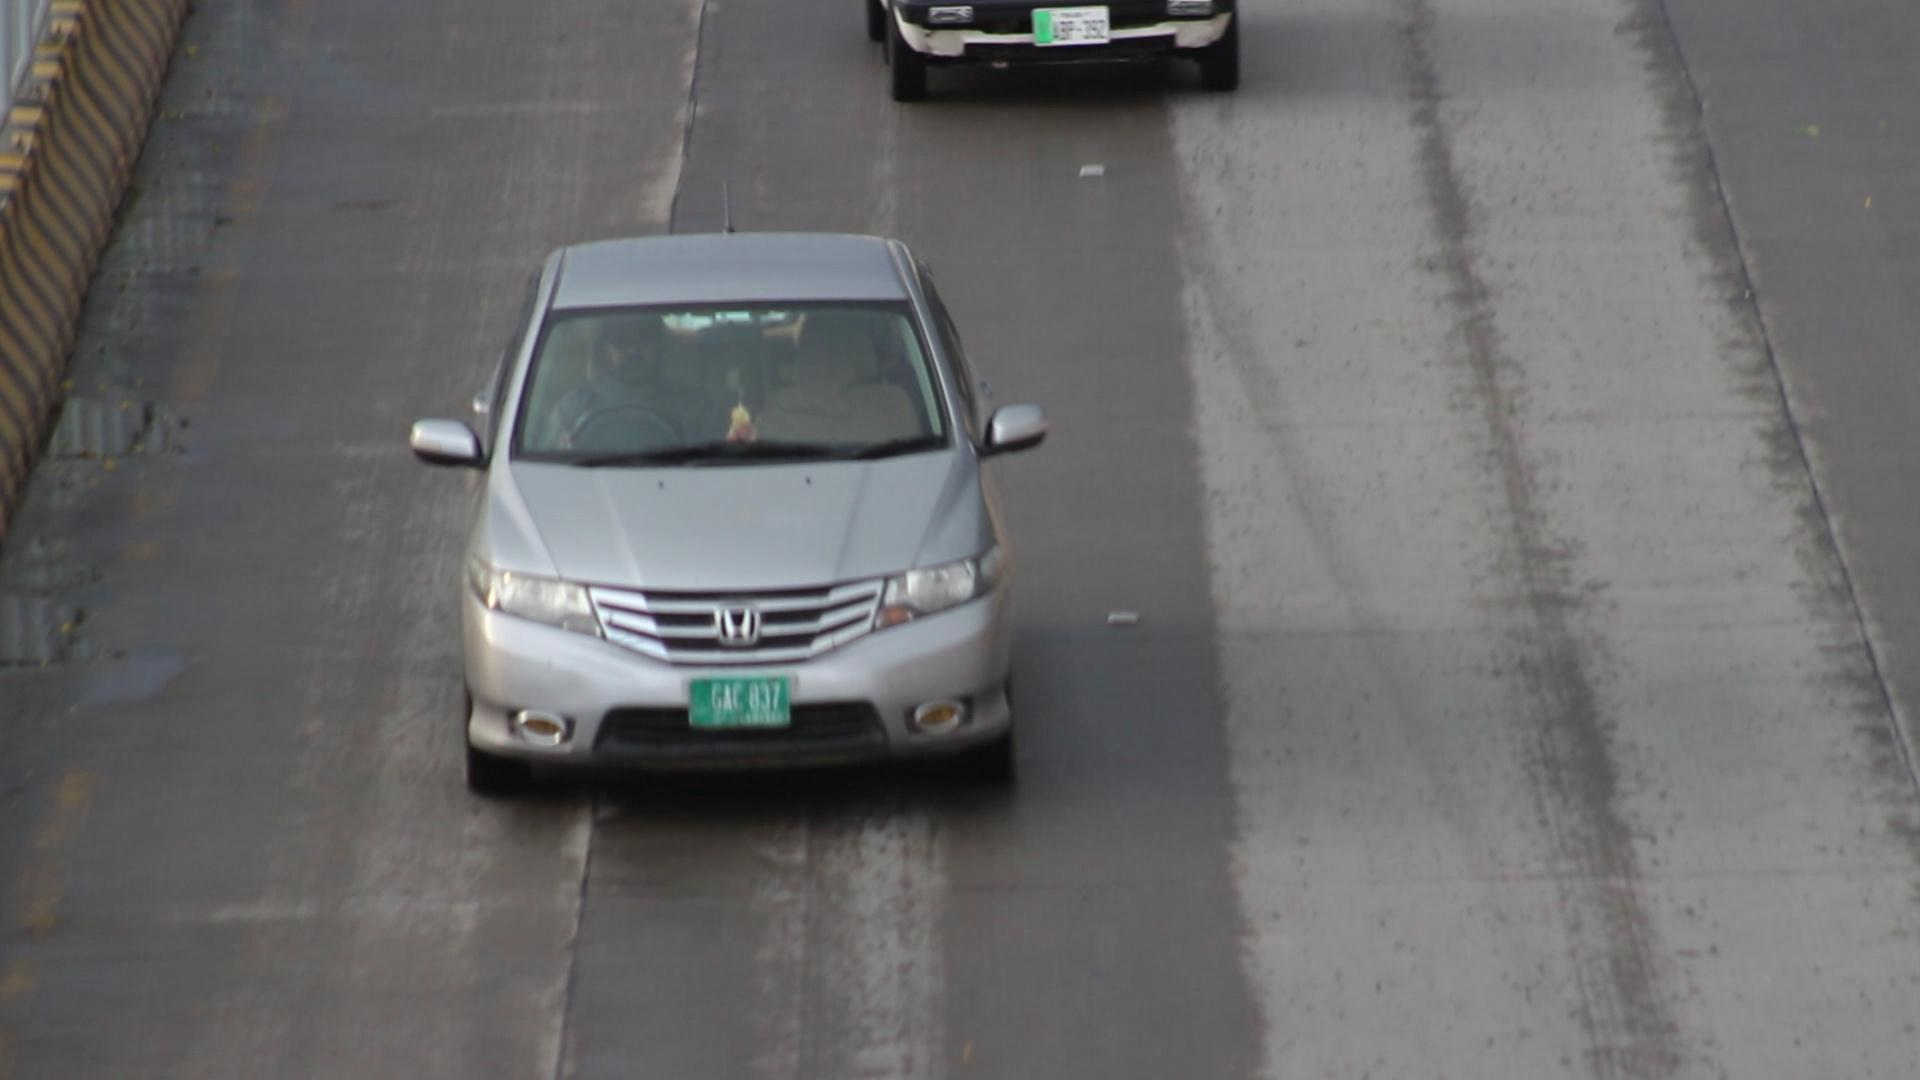windshield: (501, 290, 975, 473)
